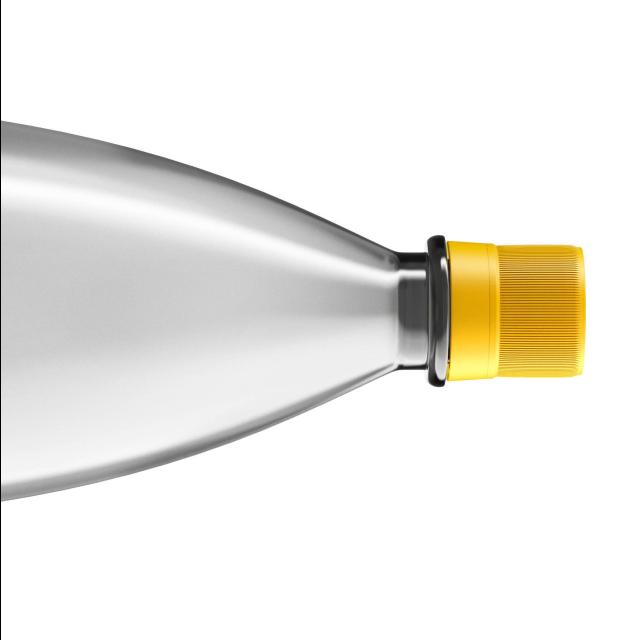bottle: (1, 123, 583, 500)
